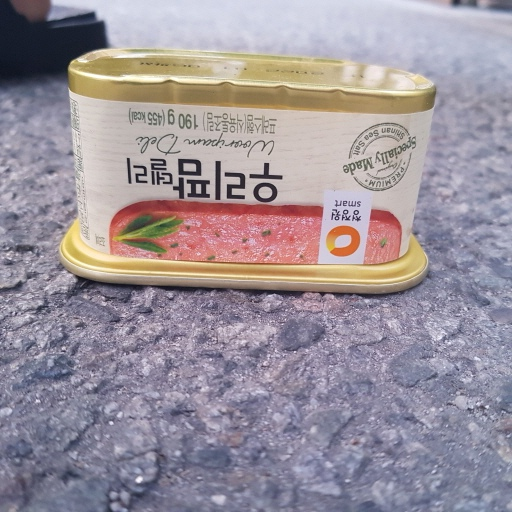Metal_2: (57, 45, 439, 297)
